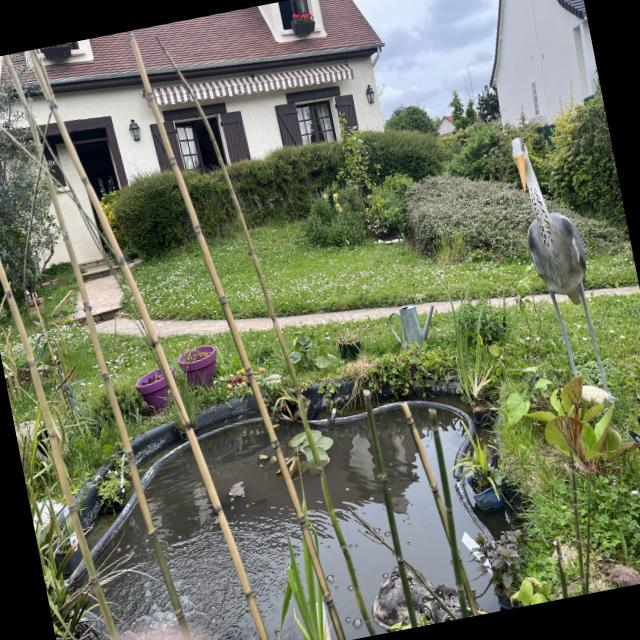Heron: (492, 113, 630, 416)
